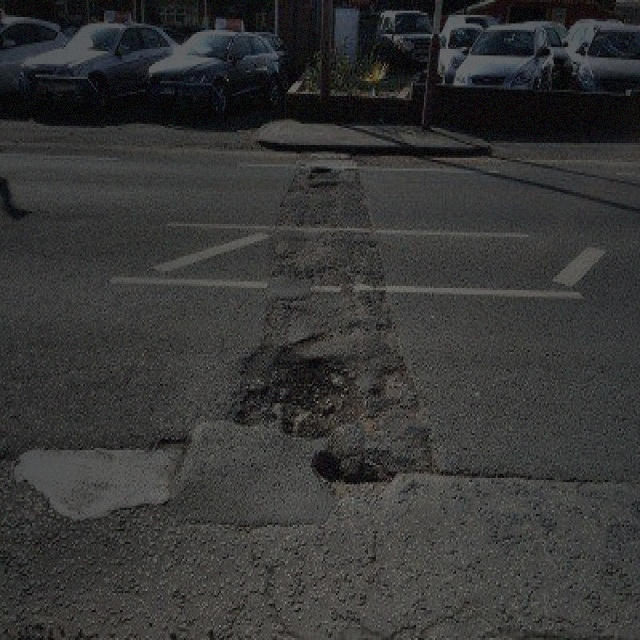pothole: (227, 337, 373, 435), (309, 446, 397, 493), (306, 162, 338, 194)
